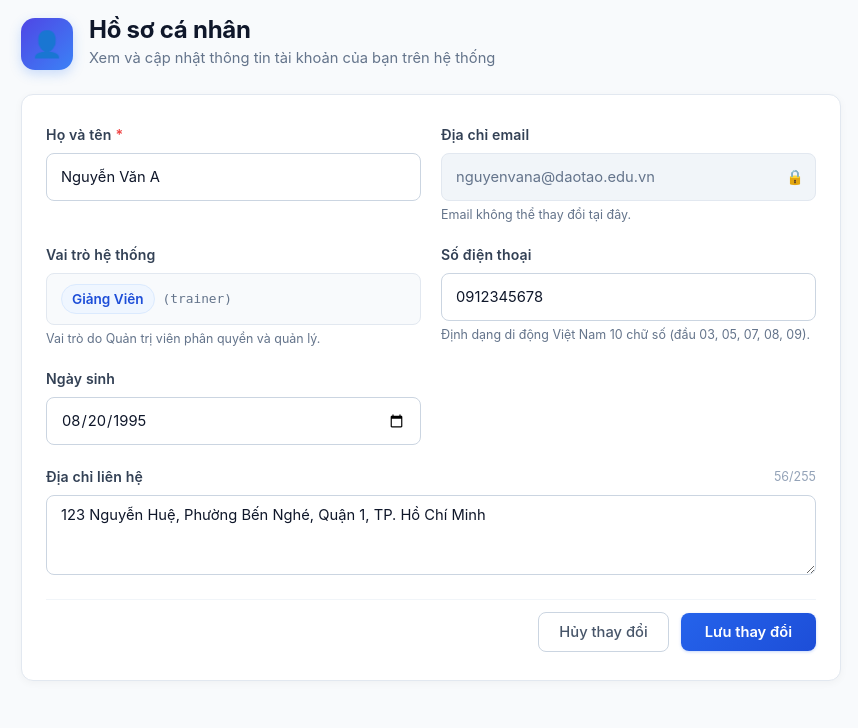
Scenario: SCRUM-120: Frontend Hồ sơ cá nhân (Activity A6) › 11. DOB tương lai → lỗi: chặn submit và báo lỗi tiếng Việt
Type "2099-12-31" into the date field with test id "input-profile-dob" at (234, 421), box [46,397,421,445]
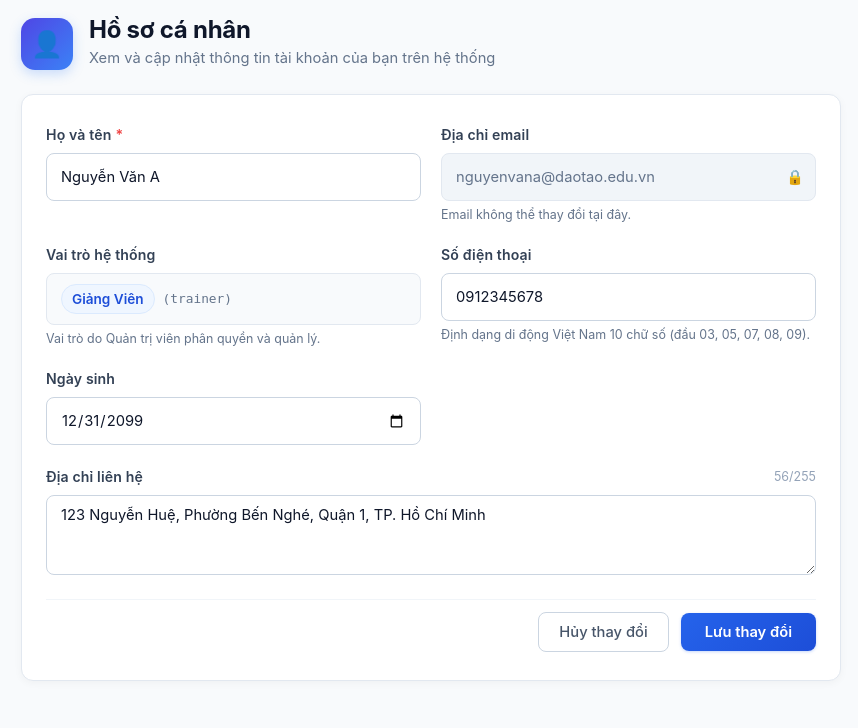
Click the button with test id "btn-save-profile" at (748, 632), box [681,613,816,651]
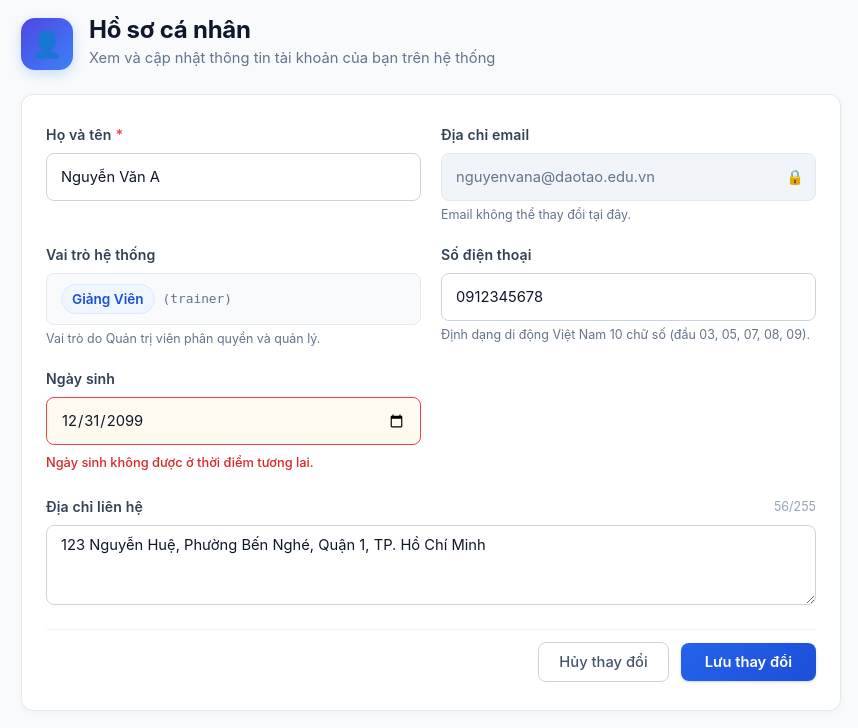
Check: the message with test id "error-dob" reads "Ngày sinh không được ở thời điểm tương lai.", box [46,455,314,470]
